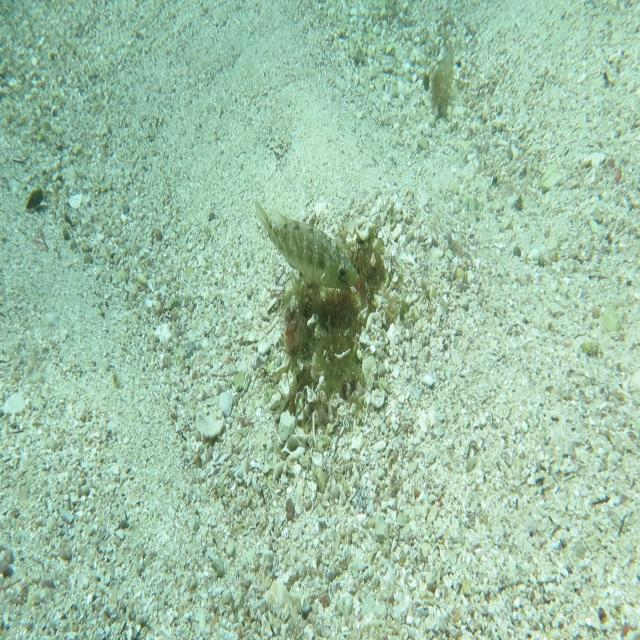FAN: (250, 198, 363, 291)
nest: (276, 210, 407, 418)
vegetation: (424, 44, 461, 121), (24, 182, 44, 213)
